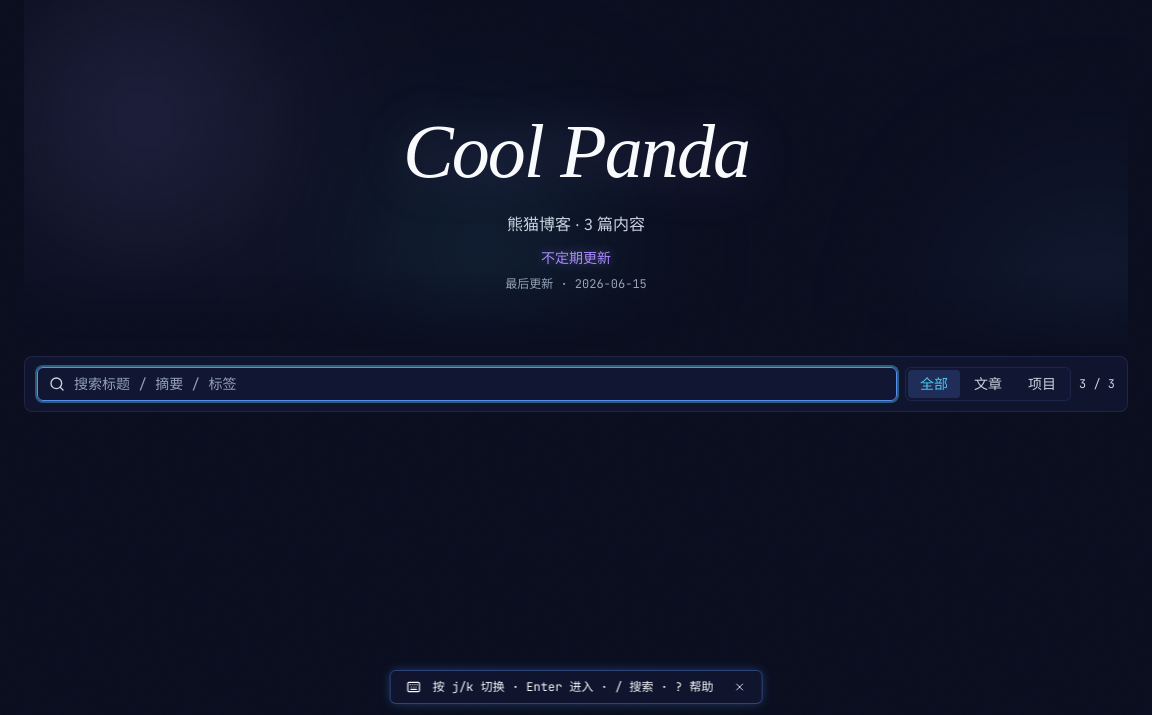
Test: Home 搜索过滤（与分类正交） › 点击 X 清除按钮后 input 仍持有焦点（08-17 F3）
In the search field with placeholder "搜索标题 / 摘要 / 标签": x=467, y=384 37,367 -> 897,401, type "xyz"
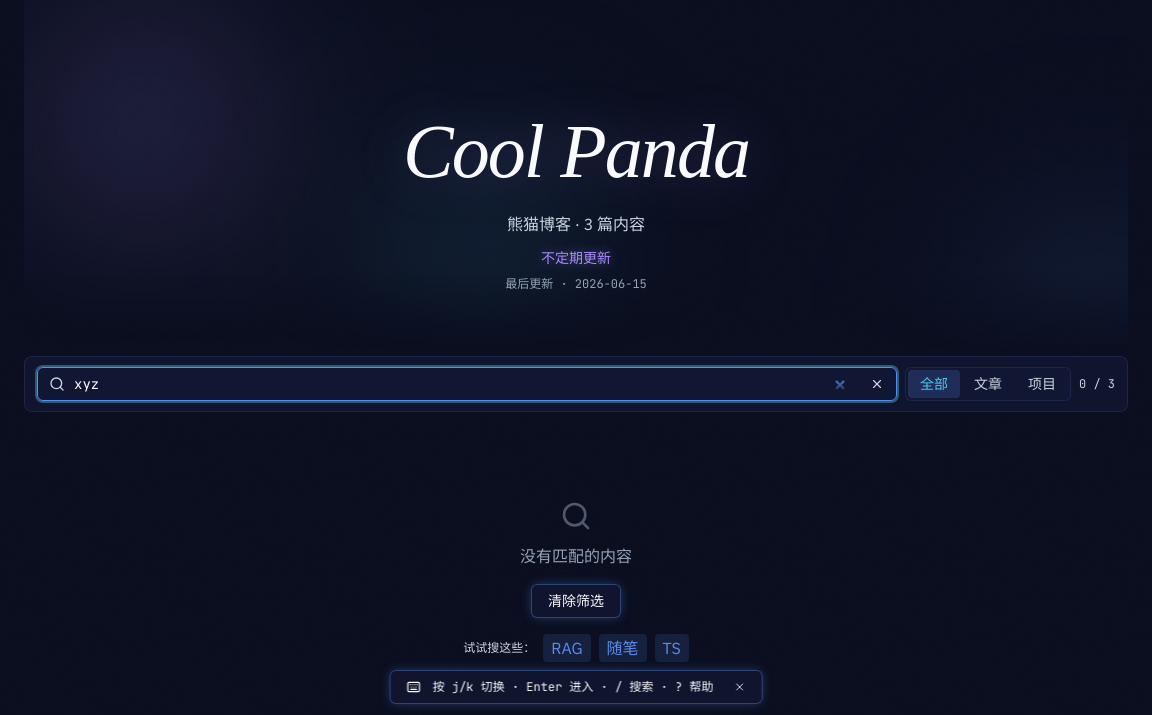
expect the button named "清除搜索" is shown: met
Click the button named "清除搜索": x=877, y=384 865,372 -> 889,396
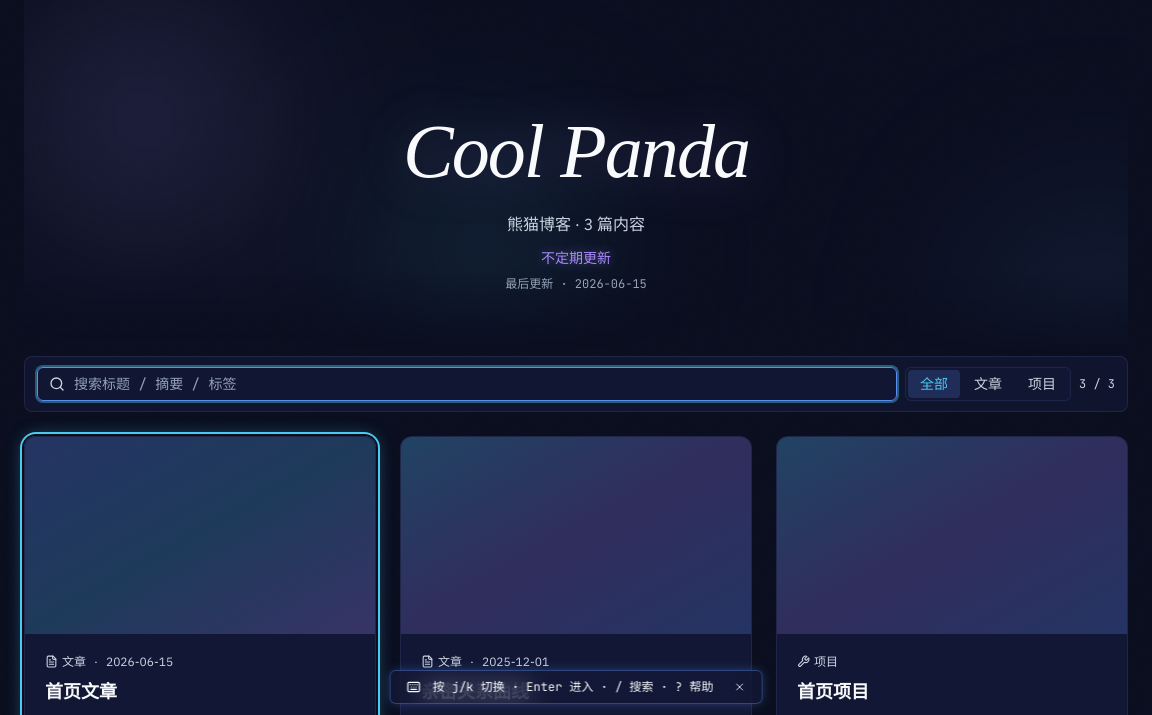
expect the search field with placeholder "搜索标题 / 摘要 / 标签" is empty: met, box 37,367 -> 897,401
